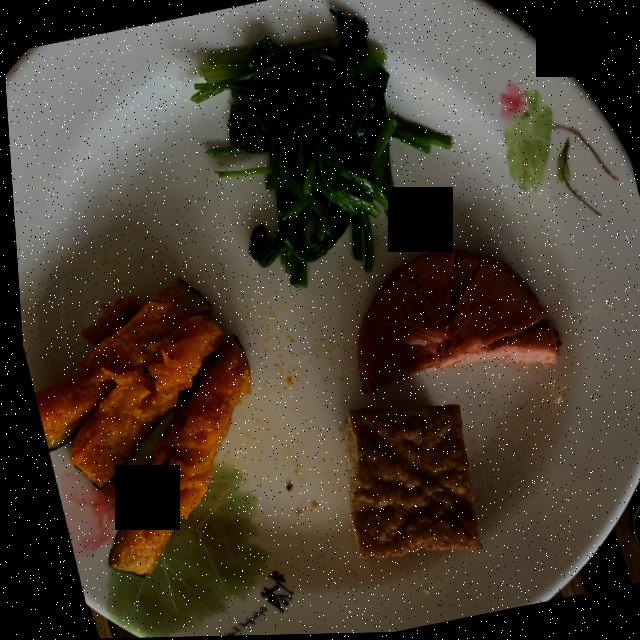Spam: (352, 249, 554, 392)
coin: (624, 499, 640, 556)
egg tofu: (336, 405, 473, 558)
mustard greens: (189, 10, 449, 285)
pumpkin: (28, 278, 244, 575)
